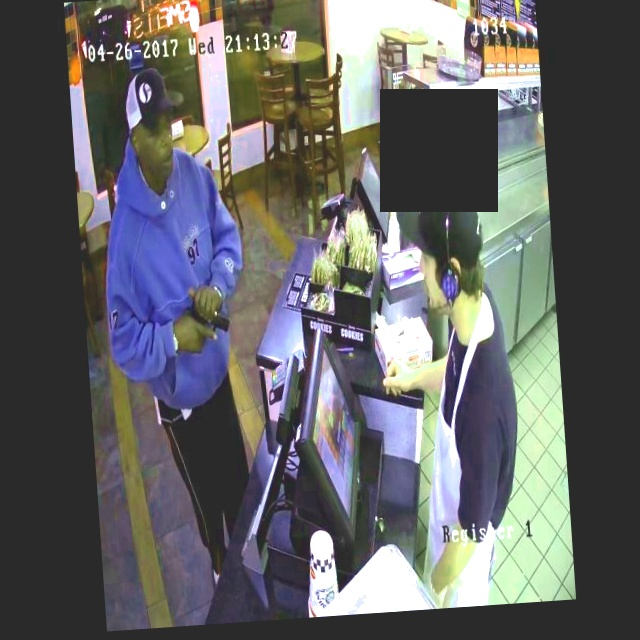gun: (173, 291, 239, 355)
